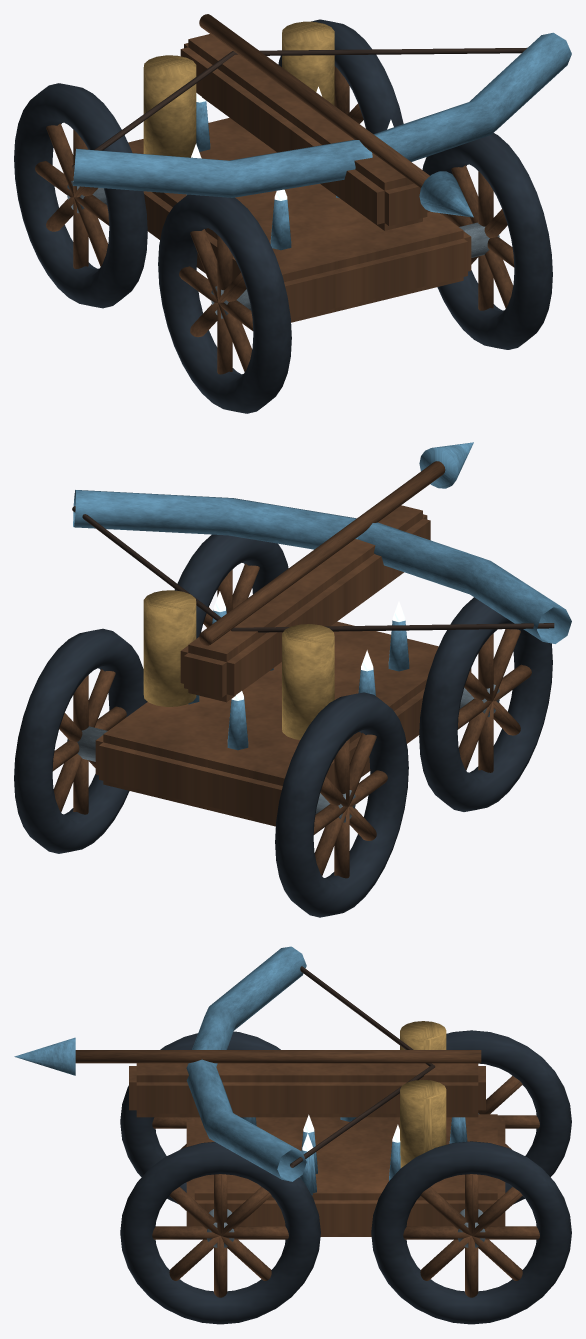
File: enemy_ice_ballista.glb
The picture shows the model from 3 angles, top to bottom: view 1: azimuth 30°, elevation 25°; view 2: azimuth 150°, elevation 25°; view 3: azimuth 270°, elevation 25°; orthographic projection. The views are drawn at different scales.
Parts seen in each view (by area): view 1: Old_oak, Forged_black_iron, Blue_glacial_ice, Antique_brass, Oiled_leather, Weathered_blue_steel; view 2: Old_oak, Forged_black_iron, Blue_glacial_ice, Antique_brass, Oiled_leather, Weathered_blue_steel, Frost_core; view 3: Old_oak, Forged_black_iron, Blue_glacial_ice, Antique_brass, Oiled_leather.
Boxes of the visible parts, x1,y1,x2,y2 form: Old_oak: (35,14,514,374); Forged_black_iron: (14,19,552,413); Blue_glacial_ice: (73,32,571,250); Antique_brass: (143,21,334,157); Oiled_leather: (72,47,527,169); Weathered_blue_steel: (67,180,499,318); Old_oak: (52,461,531,878); Forged_black_iron: (14,534,552,917); Blue_glacial_ice: (73,442,571,750); Antique_brass: (143,590,334,739); Oiled_leather: (72,506,554,632); Weathered_blue_steel: (67,684,499,822); Frost_core: (213,591,405,700); Old_oak: (75,1050,539,1297); Forged_black_iron: (120,1030,571,1324); Blue_glacial_ice: (14,946,467,1195); Antique_brass: (400,1021,446,1167); Oiled_leather: (290,966,435,1167).
Size of the model in its own units: 4.54 by 2.29 by 5.06.
Materials: 7 (6 with a texture image).
